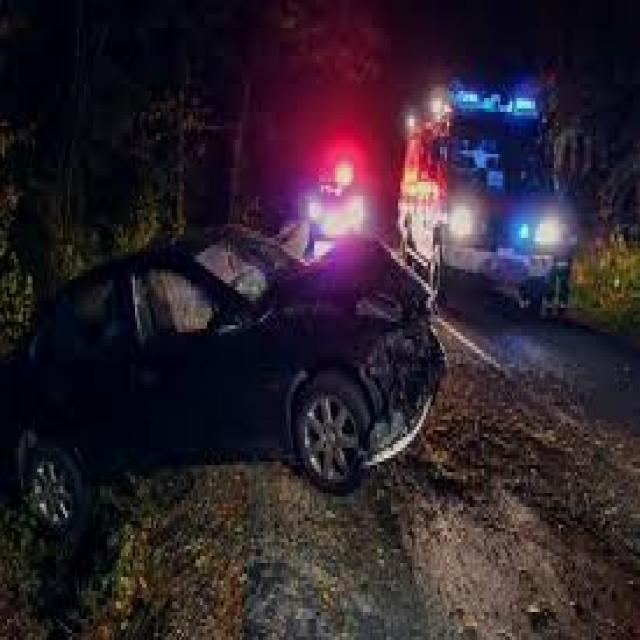accident: (11, 211, 464, 536)
